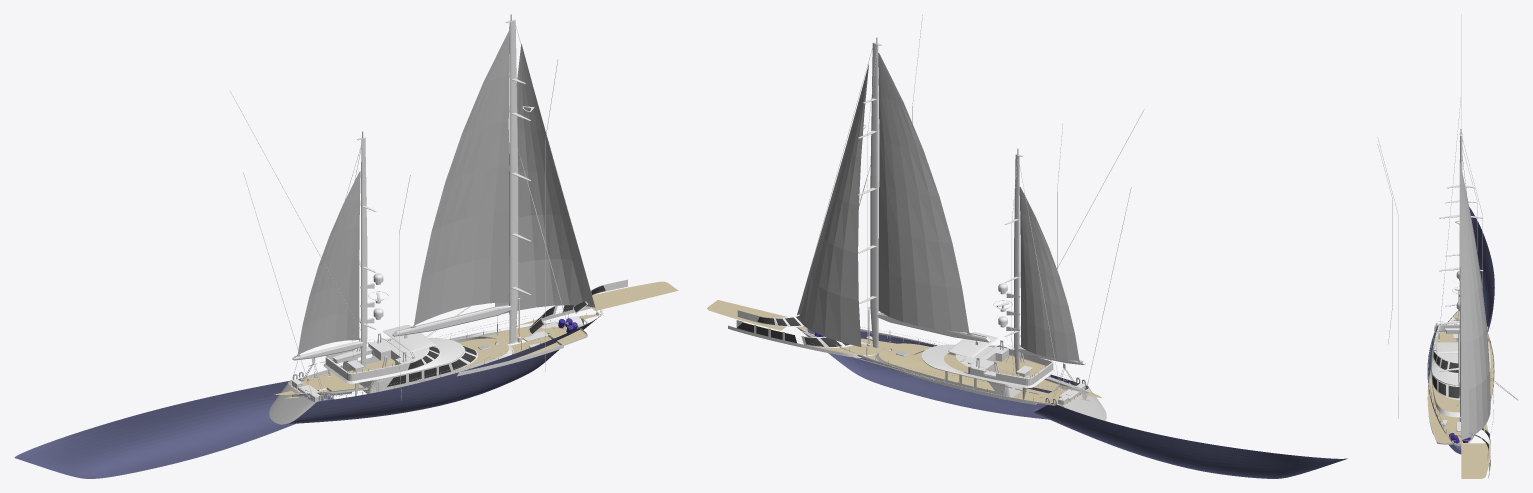
3 views of the same model, side by side, from view 1: azimuth 30°, elevation 25°; view 2: azimuth 150°, elevation 25°; view 3: azimuth 270°, elevation 25° (orthographic). The views are drawn at different scales.
Visible parts, largest first — view 1: imagetostl_mesh57, imagetostl_mesh1, imagetostl_mesh58, imagetostl_mesh91, imagetostl_mesh0, imagetostl_mesh34, imagetostl_mesh26, imagetostl_mesh35, imagetostl_mesh32, imagetostl_mesh43, imagetostl_mesh2, imagetostl_mesh21 (+2 smaller); view 2: imagetostl_mesh57, imagetostl_mesh58, imagetostl_mesh1, imagetostl_mesh91, imagetostl_mesh0, imagetostl_mesh34, imagetostl_mesh26, imagetostl_mesh268, imagetostl_mesh35, imagetostl_mesh24, imagetostl_mesh32, imagetostl_mesh23 (+2 smaller); view 3: imagetostl_mesh58, imagetostl_mesh1, imagetostl_mesh32, imagetostl_mesh7, imagetostl_mesh26, imagetostl_mesh34, imagetostl_mesh27, imagetostl_mesh0, imagetostl_mesh45, imagetostl_mesh227, imagetostl_mesh93, imagetostl_mesh33 (+8 smaller).
Boxes of the visible parts, box(x1,y1,x2,y2) form: imagetostl_mesh57: box(414, 30, 509, 324); imagetostl_mesh1: box(14, 379, 333, 478); imagetostl_mesh58: box(495, 43, 595, 313); imagetostl_mesh91: box(297, 171, 360, 354); imagetostl_mesh0: box(286, 315, 601, 424); imagetostl_mesh34: box(509, 19, 518, 343); imagetostl_mesh26: box(323, 337, 464, 383); imagetostl_mesh35: box(361, 137, 367, 368); imagetostl_mesh32: box(590, 281, 678, 310); imagetostl_mesh43: box(392, 305, 510, 336); imagetostl_mesh2: box(269, 383, 316, 424); imagetostl_mesh21: box(292, 326, 587, 396); imagetostl_mesh57: box(878, 53, 968, 332); imagetostl_mesh58: box(797, 64, 868, 346); imagetostl_mesh1: box(1032, 403, 1347, 478); imagetostl_mesh91: box(1019, 187, 1079, 360); imagetostl_mesh0: box(796, 327, 1088, 419); imagetostl_mesh34: box(870, 42, 878, 347); imagetostl_mesh26: box(921, 344, 1054, 387); imagetostl_mesh268: box(866, 351, 1048, 401); imagetostl_mesh35: box(1014, 154, 1019, 374); imagetostl_mesh24: box(876, 348, 1031, 397); imagetostl_mesh32: box(707, 300, 787, 330); imagetostl_mesh23: box(805, 328, 1062, 406); imagetostl_mesh58: box(1459, 160, 1490, 440); imagetostl_mesh1: box(1469, 207, 1494, 331); imagetostl_mesh32: box(1461, 443, 1490, 478); imagetostl_mesh7: box(1428, 373, 1460, 432); imagetostl_mesh26: box(1431, 324, 1490, 385); imagetostl_mesh34: box(1459, 134, 1462, 416); imagetostl_mesh27: box(1432, 384, 1459, 412); imagetostl_mesh0: box(1427, 327, 1461, 454); imagetostl_mesh45: box(1461, 140, 1461, 444); imagetostl_mesh227: box(1432, 376, 1459, 398); imagetostl_mesh93: box(1377, 137, 1398, 418); imagetostl_mesh33: box(1436, 342, 1458, 353).
Size of the model in its own units: 344197 by 181769 by 72016.
